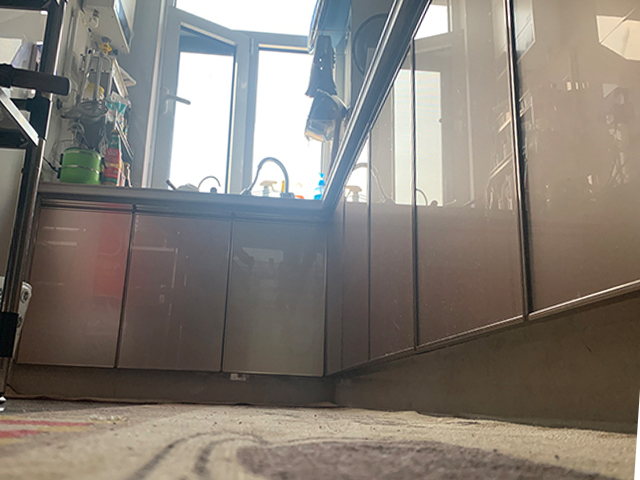cabinet: (26, 182, 334, 401)
carpet: (1, 399, 638, 480)
